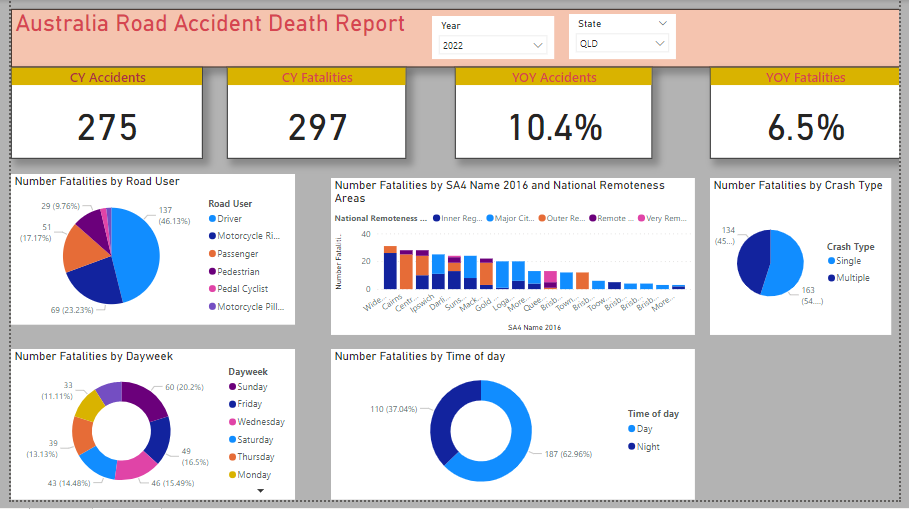

The page's visual inventory and layout, read from the dashboard file:
{"tool":"powerbi","page":{"name":"State","canvas":[1280,720],"ordinal":1},"visuals":[{"type":"textbox","title":"Australia  Road Accident Death Report","box":[0,13.4,1280,84],"z":0},{"type":"slicer","fields":{"Values":["NewCalendar.Year"]},"box":[606.2,23,175.7,61.9],"z":1000},{"type":"card","title":"CY Accidents","fields":{"Values":["Measures (2).CY Accidents"]},"box":[0,96.5,276.5,132.5],"z":2000},{"type":"card","title":"CY Fatalities","fields":{"Values":["Measures (2).CY Fatalities"]},"box":[311,96.5,257.8,132.5],"z":3000},{"type":"card","title":"YOY Accidents","fields":{"Values":["Measures (2).YoY Accidents"]},"box":[639.4,96.5,283.7,132.5],"z":4000},{"type":"card","title":"YOY Fatalities","fields":{"Values":["Measures (2).YOY Fatalities"]},"box":[1006.6,96.5,273.6,132.5],"z":5000},{"type":"slicer","fields":{"Values":["Australia_Fatalities_2023_V1.State"]},"box":[803.5,20.2,154.1,64.8],"z":6000},{"type":"pieChart","fields":{"Category":["Australia_Fatalities_2023_V1.Road User"],"Y":["Sum(Australia_Fatalities_2023_V1.Number Fatalities)"]},"box":[0,250.6,409,217.4],"z":7000},{"type":"columnChart","fields":{"Y":["Sum(Australia_Fatalities_2023_V1.Number Fatalities)"],"Category":["Australia_Fatalities_2023_V1.SA4 Name 2016"],"Series":["Australia_Fatalities_2023_V1.National Remoteness Areas"]},"box":[460.8,256.3,524.2,226.1],"z":8000},{"type":"donutChart","fields":{"Y":["Sum(Australia_Fatalities_2023_V1.Number Fatalities)"],"Category":["Australia_Fatalities_2023_V1.Dayweek"]},"box":[0,503,409,217],"z":9000},{"type":"donutChart","fields":{"Category":["Australia_Fatalities_2023_V1.Time of day"],"Y":["Sum(Australia_Fatalities_2023_V1.Number Fatalities)"]},"box":[460.8,502.6,524.2,217.4],"z":10000},{"type":"pieChart","fields":{"Category":["Australia_Fatalities_2023_V1.Crash Type"],"Y":["Sum(Australia_Fatalities_2023_V1.Number Fatalities)"]},"box":[1006.6,256.3,260.6,226.1],"z":11000}]}

Visuals, with their boxes in screenshot pixels (x1, y1, x2, y2), scaled from the page's 1280x720 canvas onto the 909x509 screenshot:
"Australia  Road Accident Death Report" textbox: [left=0, top=9, right=908, bottom=69]
slicer - NewCalendar.Year: [left=430, top=16, right=555, bottom=60]
"CY Accidents" card: [left=0, top=68, right=196, bottom=162]
"CY Fatalities" card: [left=221, top=68, right=404, bottom=162]
"YOY Accidents" card: [left=454, top=68, right=656, bottom=162]
"YOY Fatalities" card: [left=715, top=68, right=908, bottom=162]
slicer - Australia_Fatalities_2023_V1.State: [left=571, top=14, right=680, bottom=60]
pieChart - Australia_Fatalities_2023_V1.Road User x Sum(Australia_Fatalities_2023_V1.Number Fatalities): [left=0, top=177, right=290, bottom=331]
columnChart - Sum(Australia_Fatalities_2023_V1.Number Fatalities) x Australia_Fatalities_2023_V1.SA4 Name 2016: [left=327, top=181, right=700, bottom=341]
donutChart - Sum(Australia_Fatalities_2023_V1.Number Fatalities) x Australia_Fatalities_2023_V1.Dayweek: [left=0, top=356, right=290, bottom=508]
donutChart - Australia_Fatalities_2023_V1.Time of day x Sum(Australia_Fatalities_2023_V1.Number Fatalities): [left=327, top=355, right=700, bottom=508]
pieChart - Australia_Fatalities_2023_V1.Crash Type x Sum(Australia_Fatalities_2023_V1.Number Fatalities): [left=715, top=181, right=900, bottom=341]
